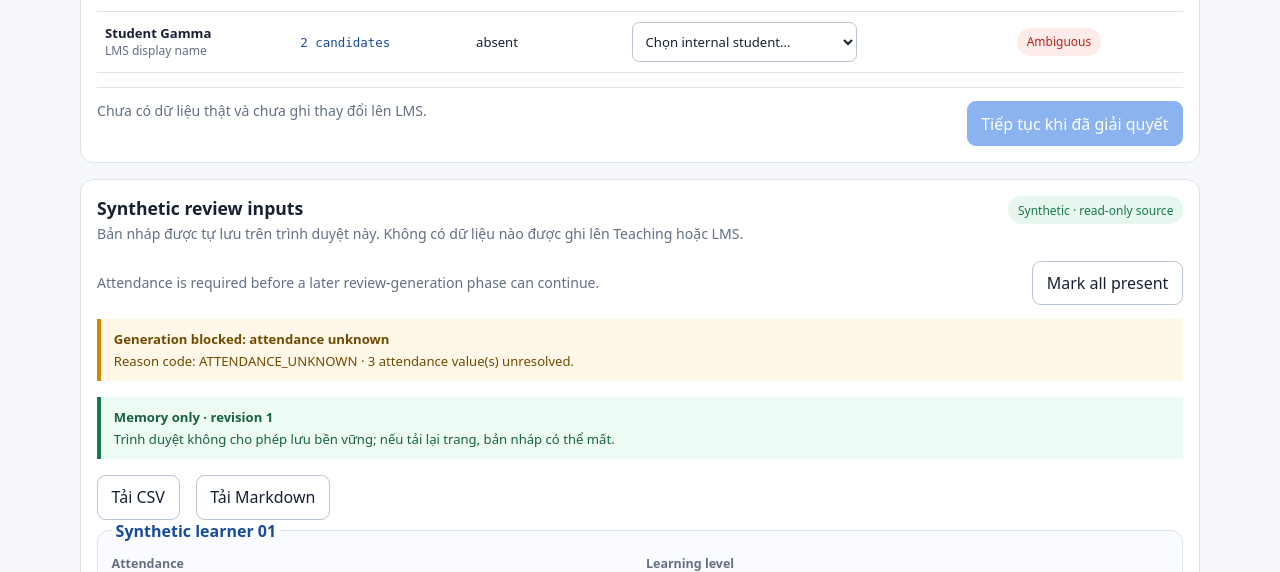
Test: Synthetic review inputs › allows absent attendance but blocks again when a row returns to unknown
(page scrolled)
Click the button "Mark all present".
click(1108, 283)  # box [1032,260,1183,305]
(page scrolled)
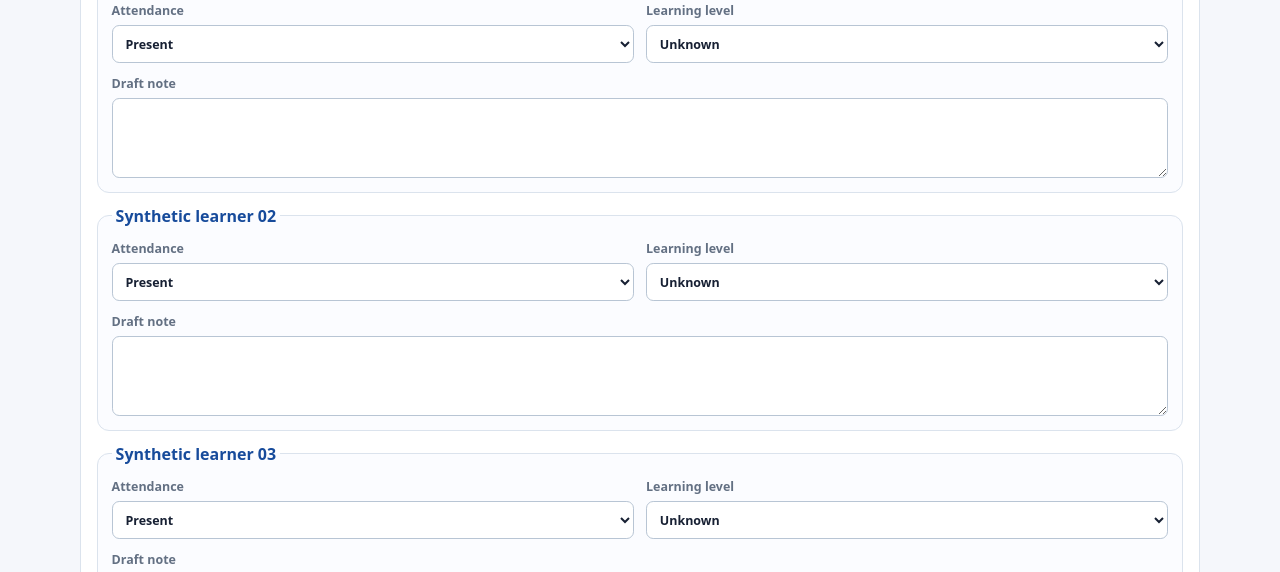
Select "Absent" in the dropdown named "Synthetic learner 02 attendance" at [373, 282], box [112,263,634,301]
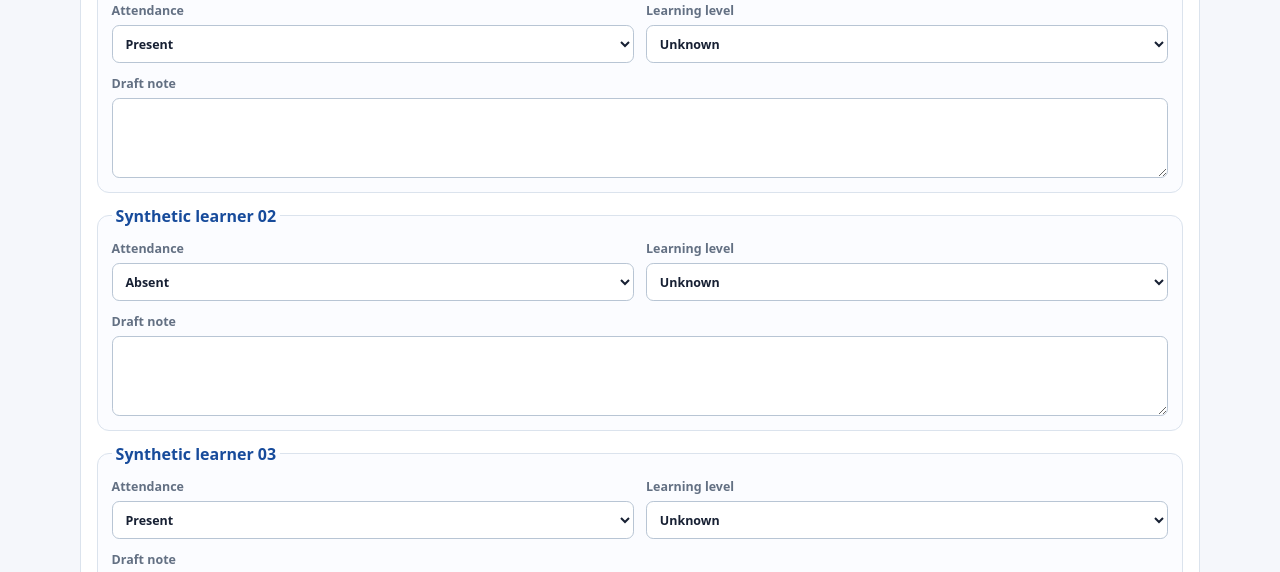
Select "Unknown" in the dropdown named "Synthetic learner 02 attendance" at [373, 282], box [112,263,634,301]
(page scrolled)
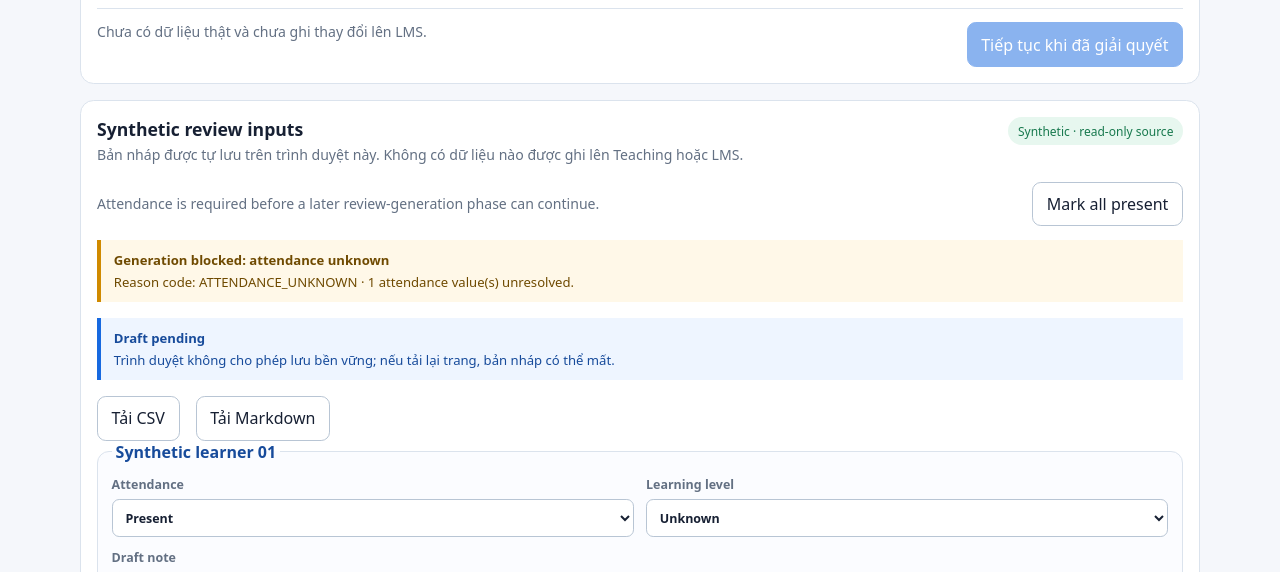
Check: the text "Generation blocked: attendance unknown" is shown, box [114,251,389,269]
Check: the text "Reason code: ATTENDANCE_UNKNOWN" is shown, box [114,273,574,291]
